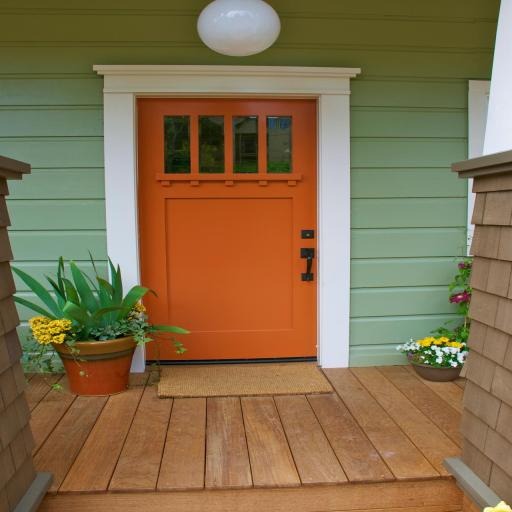Door: (137, 98, 317, 360)
